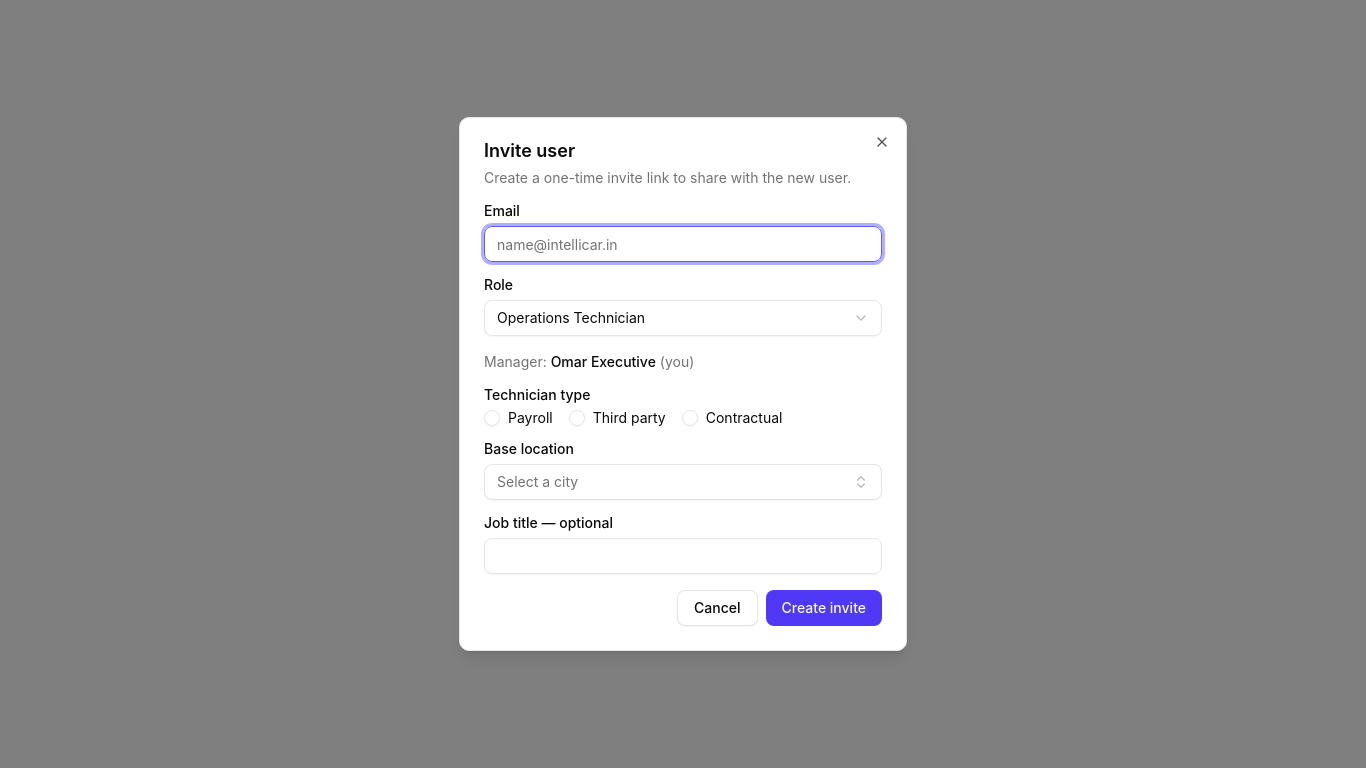
InviteDialog › switches to a one-time link view with a copy button after creating the invite
The image size is (1366, 768).
Type "tech@intellicar.in" into the field labelled "Email".
click(683, 244); type("tech@intellicar.in")  # box top-left (484, 226), bottom-right (882, 262)
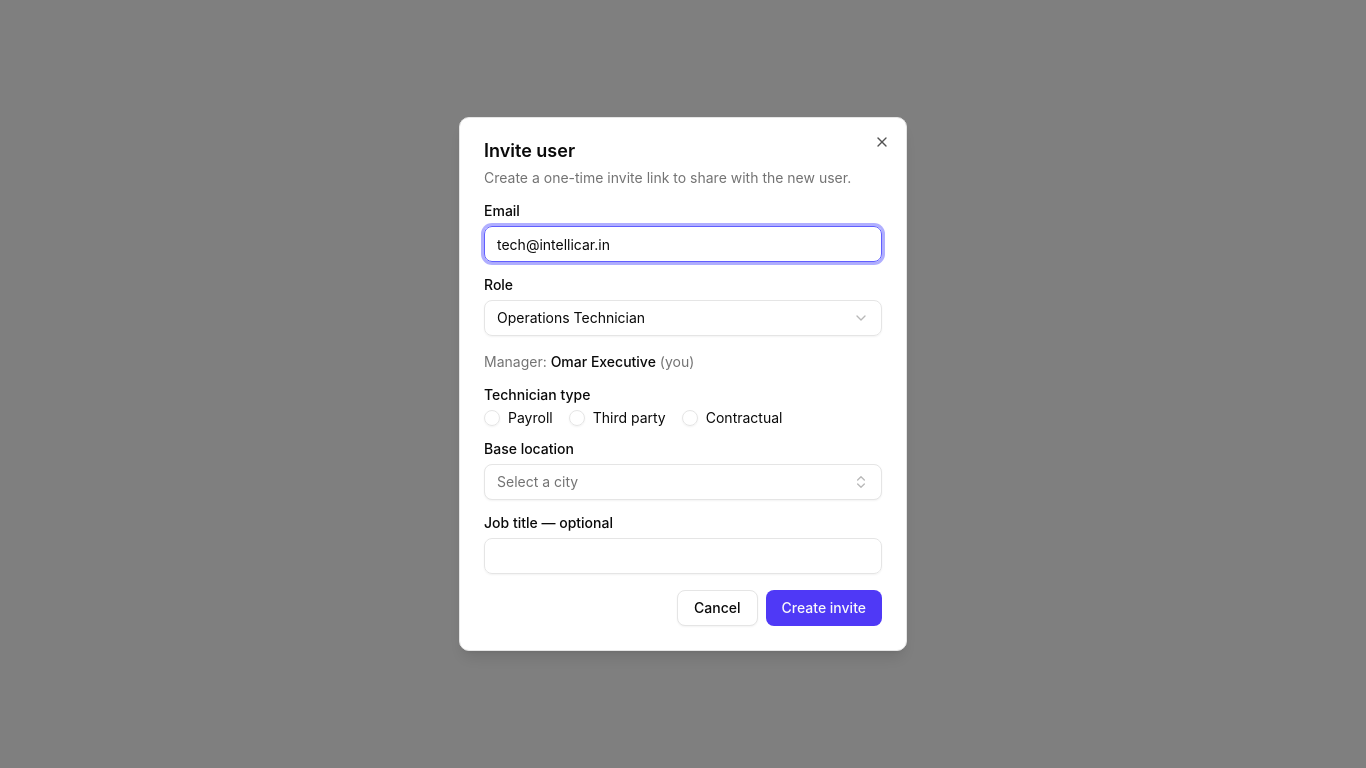
Click the radio button named "Payroll" next to "Payroll".
click(492, 418)  # box top-left (484, 410), bottom-right (500, 426)
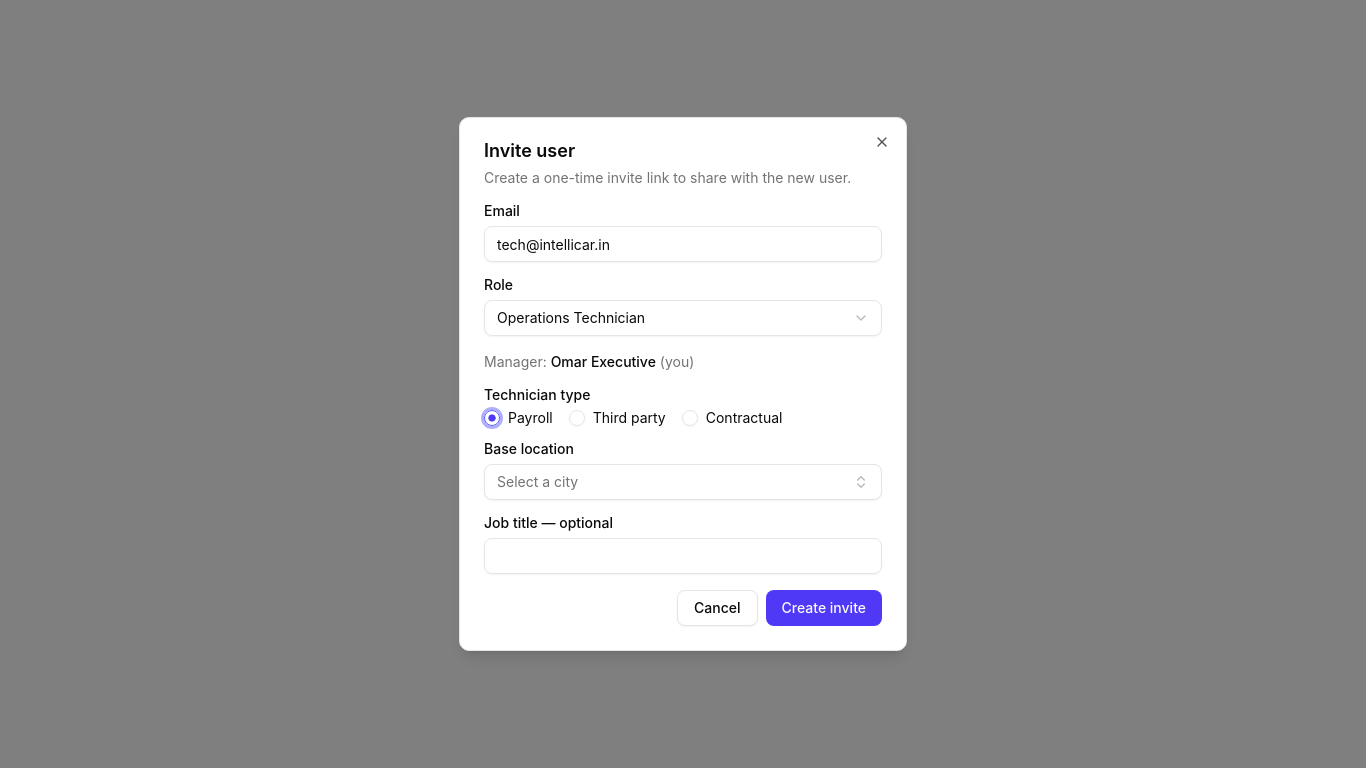
Click the dropdown named "Base location".
click(538, 482)  # box top-left (484, 464), bottom-right (882, 500)
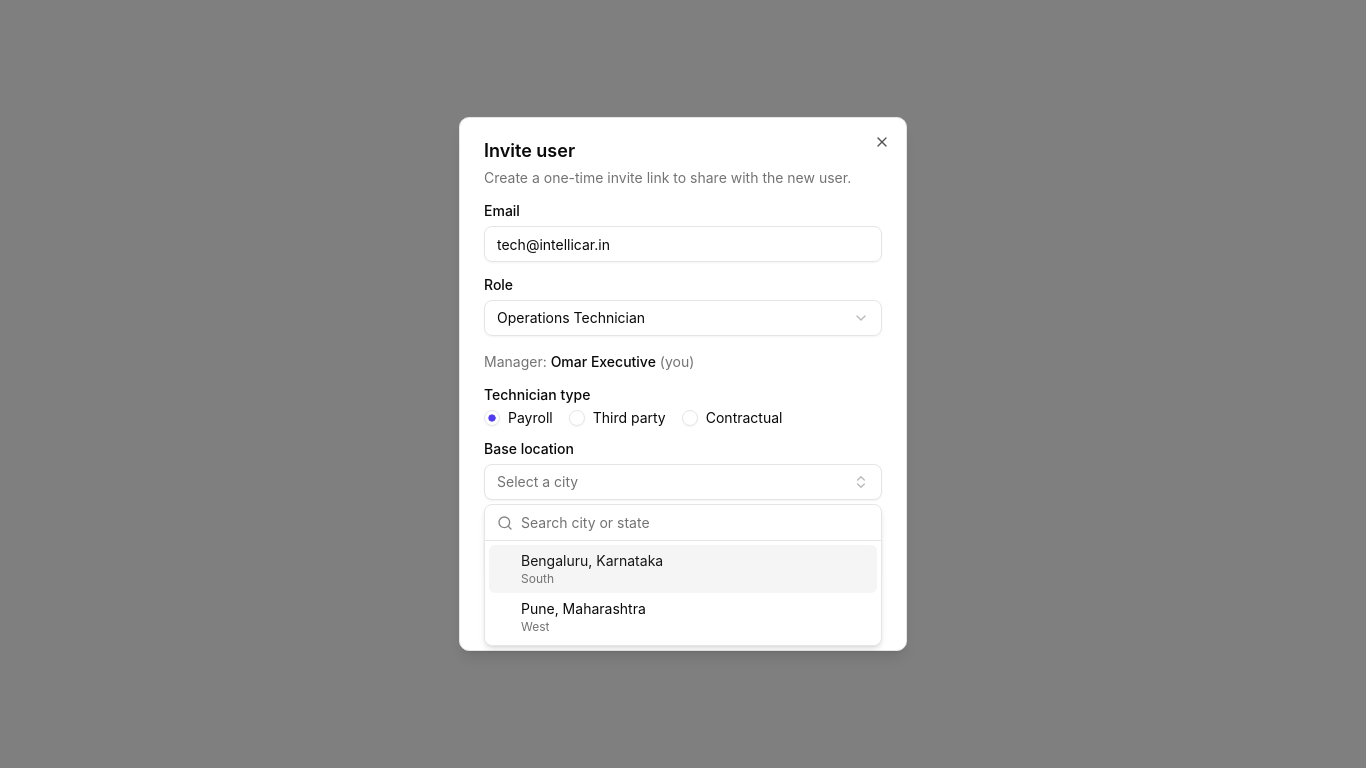
Click the option "Bengaluru, Karnataka South".
click(592, 560)  # box top-left (489, 545), bottom-right (877, 593)
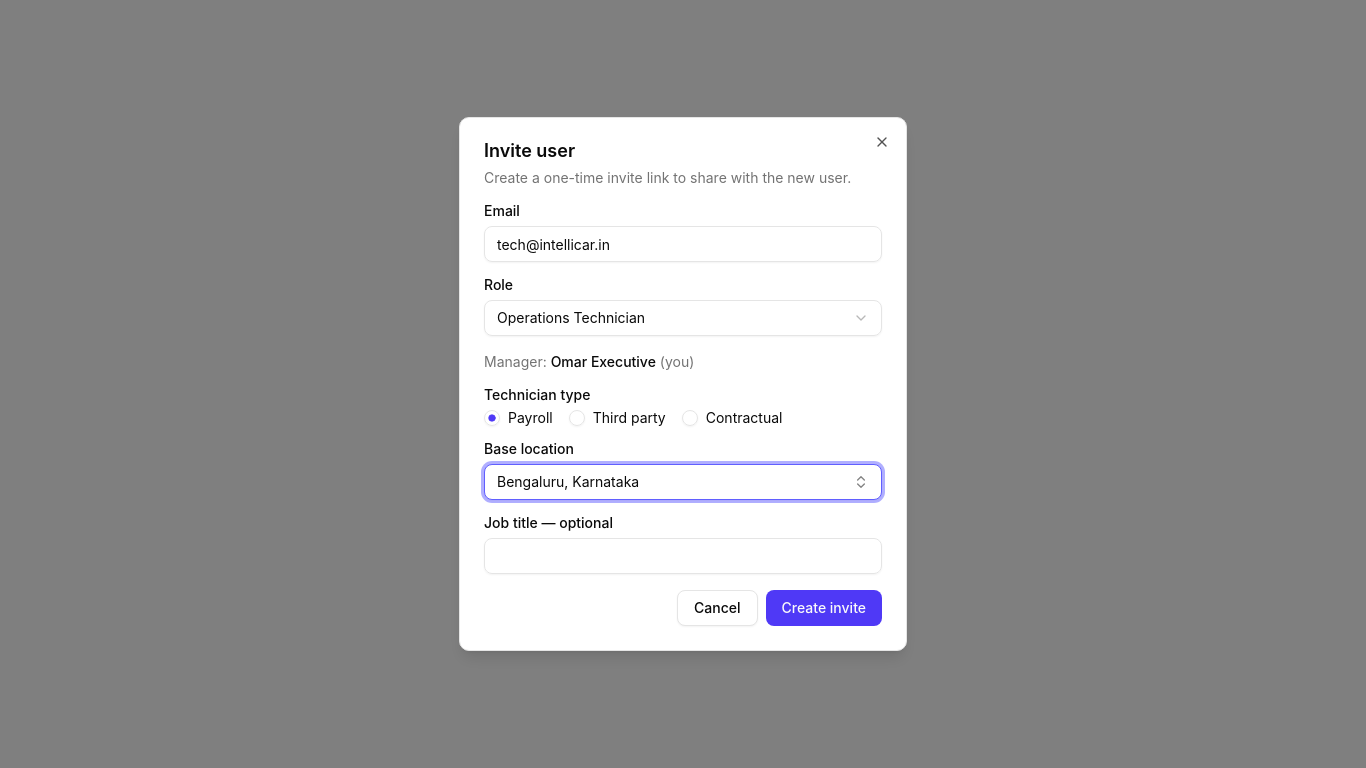
Click the button "Create invite".
click(824, 608)  # box top-left (766, 590), bottom-right (882, 626)
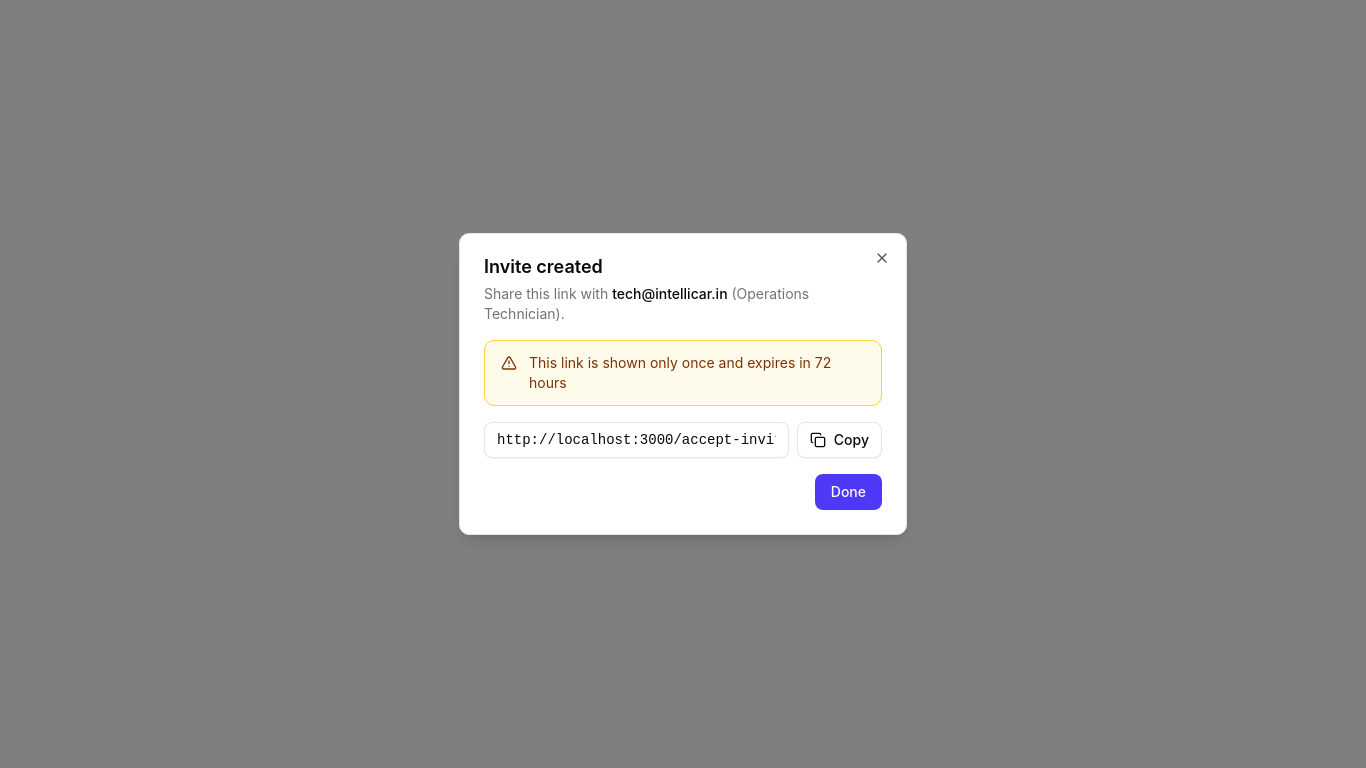
expect the heading "Invite created" is shown: met, box top-left (484, 256), bottom-right (603, 277)
expect the text "This link is shown only once and expires in 72 hours" is shown: met, box top-left (529, 353), bottom-right (865, 393)
expect the field named "Invite link" holds "http://localhost:3000/accept-invite?token=one-time-token": met, box top-left (484, 422), bottom-right (789, 458)
Click the button with aria-label "Copy link".
click(839, 440)  # box top-left (797, 422), bottom-right (882, 458)
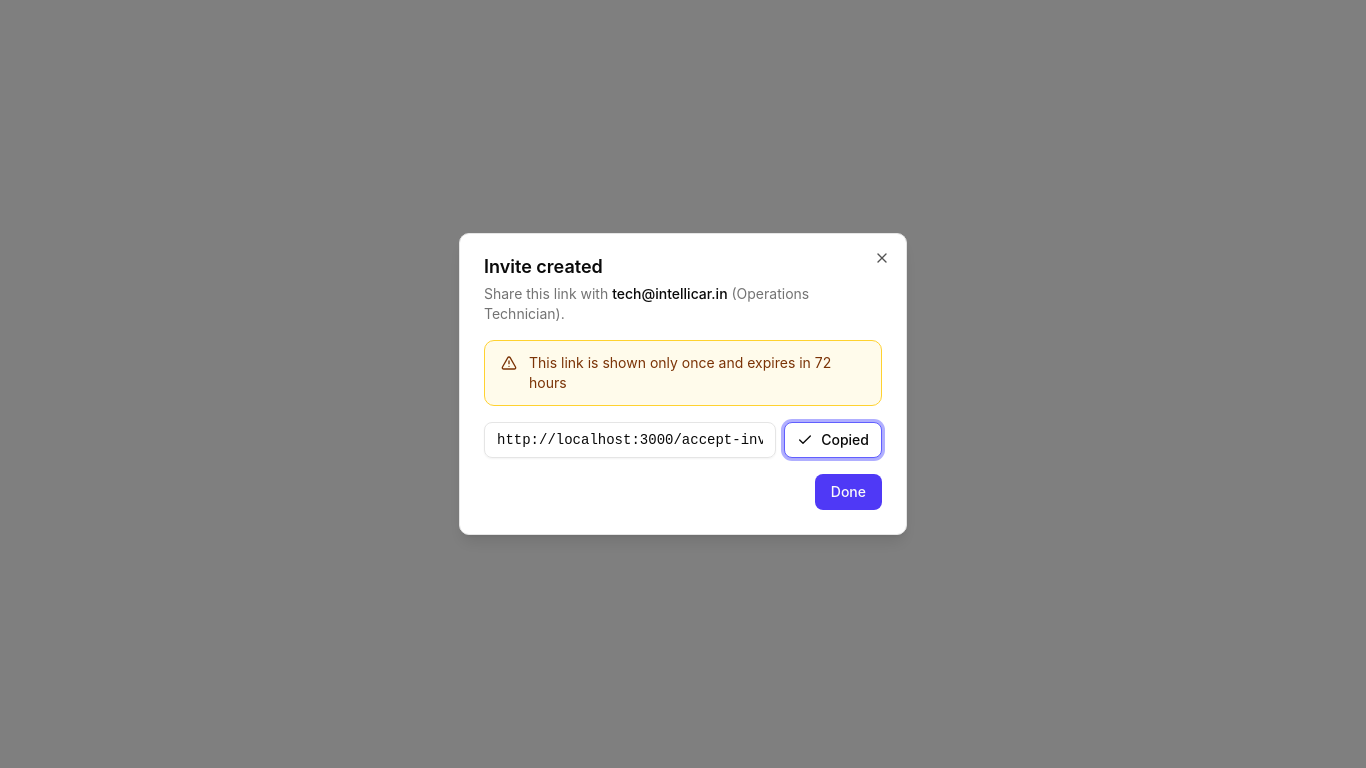
expect the button "Copied" is shown: met, box top-left (784, 422), bottom-right (882, 458)
